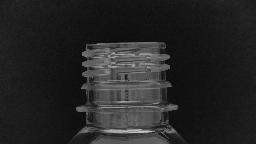No Cap: (71, 37, 183, 119)
